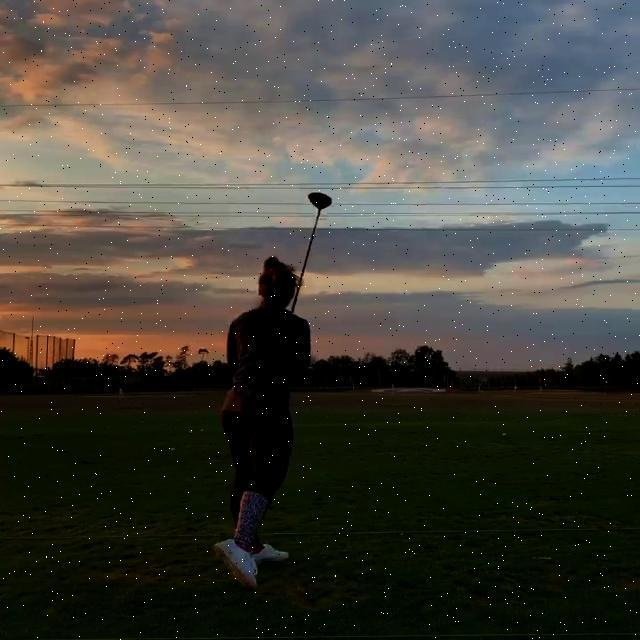ClubHandle: (289, 189, 336, 314)
ClubHead: (308, 191, 333, 209)
